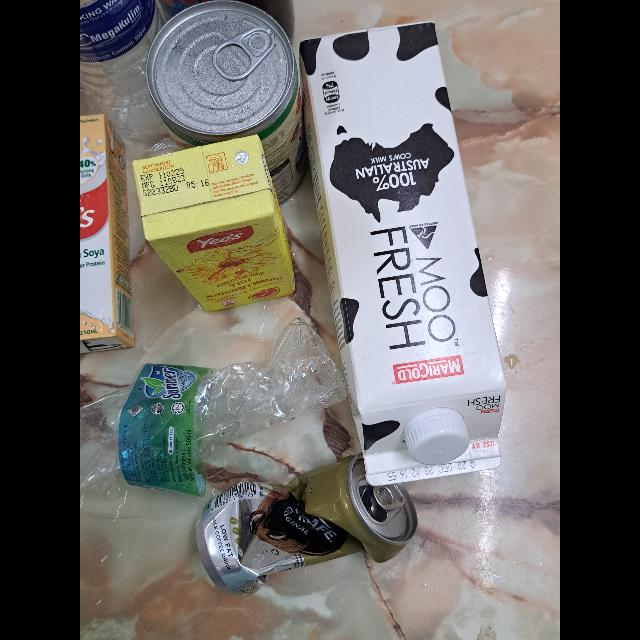aba de lata: (212, 27, 276, 79), (374, 482, 406, 510)
caixinha: (298, 21, 507, 483), (130, 136, 298, 314), (80, 113, 134, 353)
garrafa plástica: (80, 320, 348, 498), (80, 0, 166, 142)
lata: (143, 0, 304, 204), (195, 456, 418, 596)
tampa plástica: (404, 410, 470, 464)
